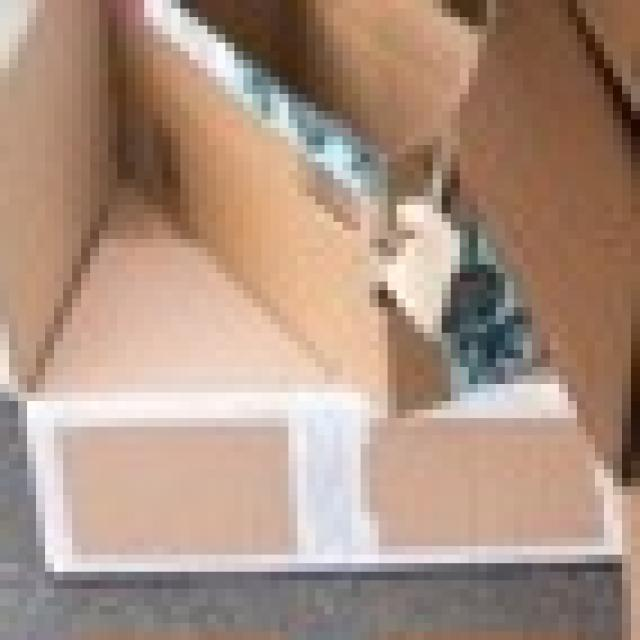cardboard: (15, 0, 640, 580)
